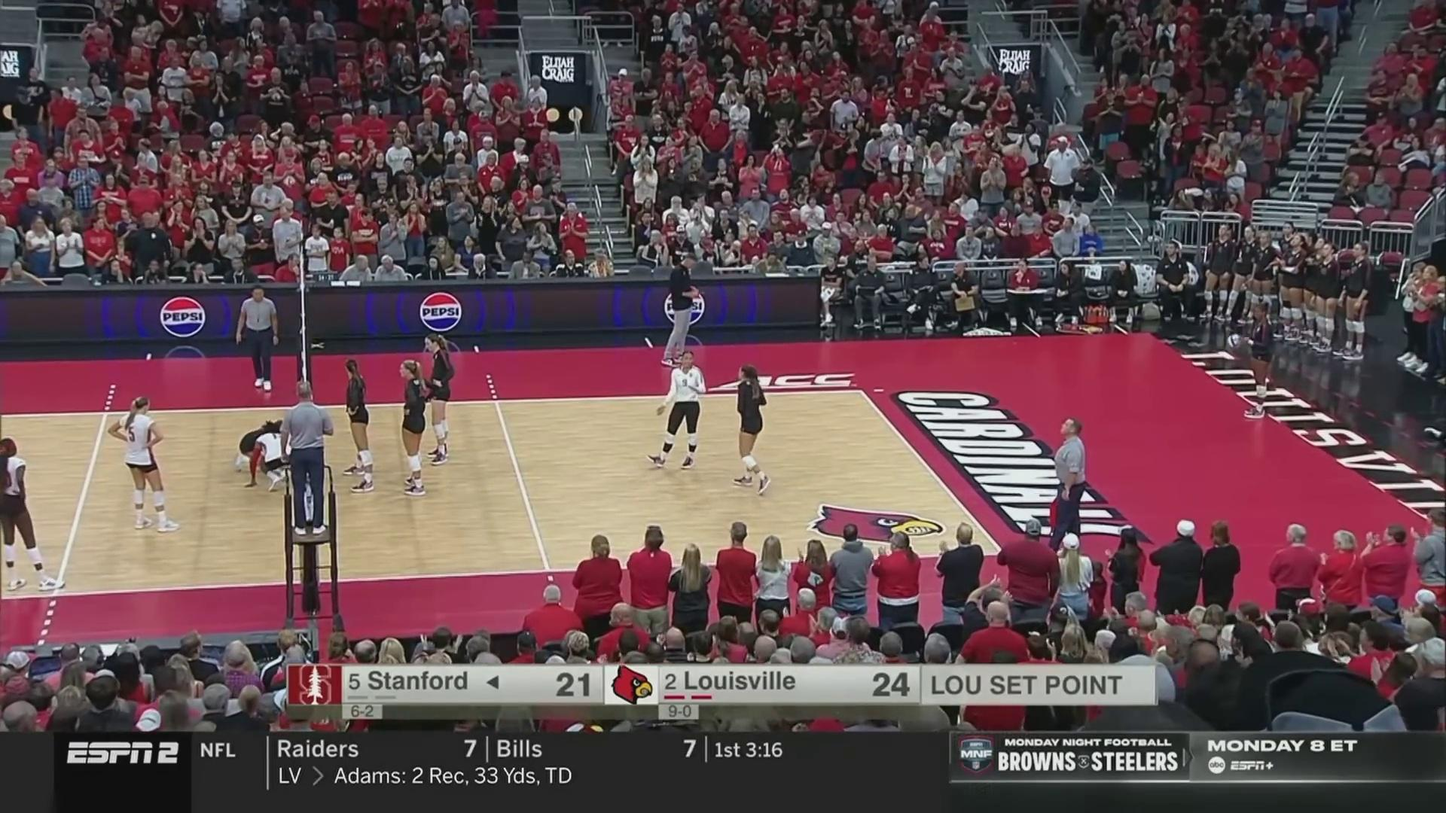player: (0, 439, 66, 593), (109, 397, 176, 531), (646, 350, 709, 468), (733, 364, 775, 493), (340, 361, 377, 495), (396, 358, 431, 498), (426, 332, 459, 464), (1243, 305, 1276, 420), (247, 423, 299, 492), (234, 418, 290, 470)
refree: (281, 382, 334, 534), (1047, 416, 1089, 557), (237, 287, 282, 394)
